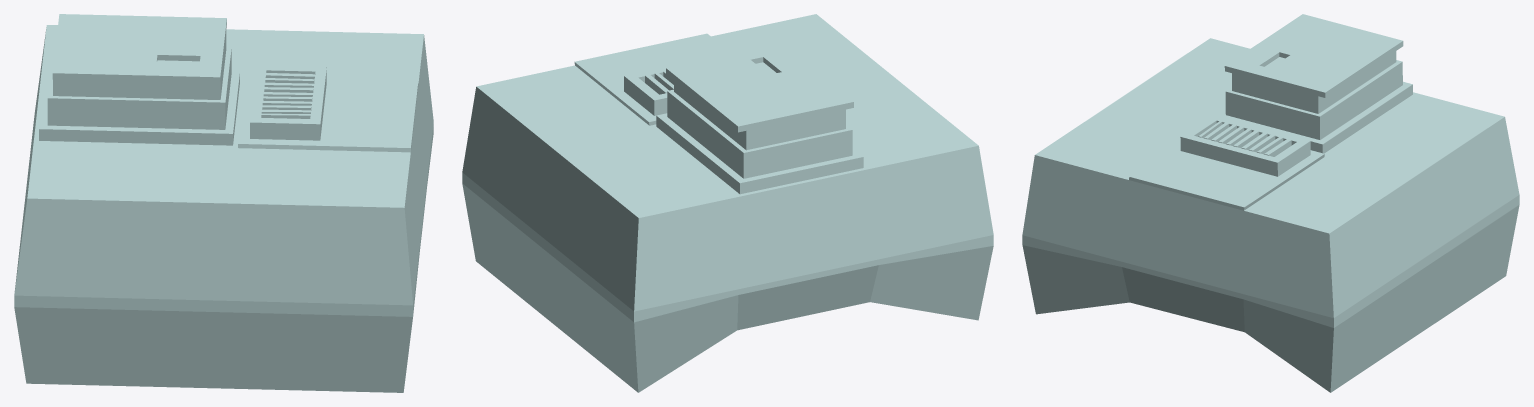
The picture shows the model from 3 angles, left to right: view 1: azimuth 30°, elevation 25°; view 2: azimuth 150°, elevation 25°; view 3: azimuth 270°, elevation 25°; orthographic projection. The views are drawn at different scales.
Visible parts, largest first — view 1: Cube; view 2: Cube; view 3: Cube.
Part boxes in pixels (x1,y1,x2,y2): Cube: (14,14,433,392); Cube: (462,14,993,392); Cube: (1022,14,1519,392).
Bounding box in the file's own units: 3.74 × 1.85 × 3.81.
